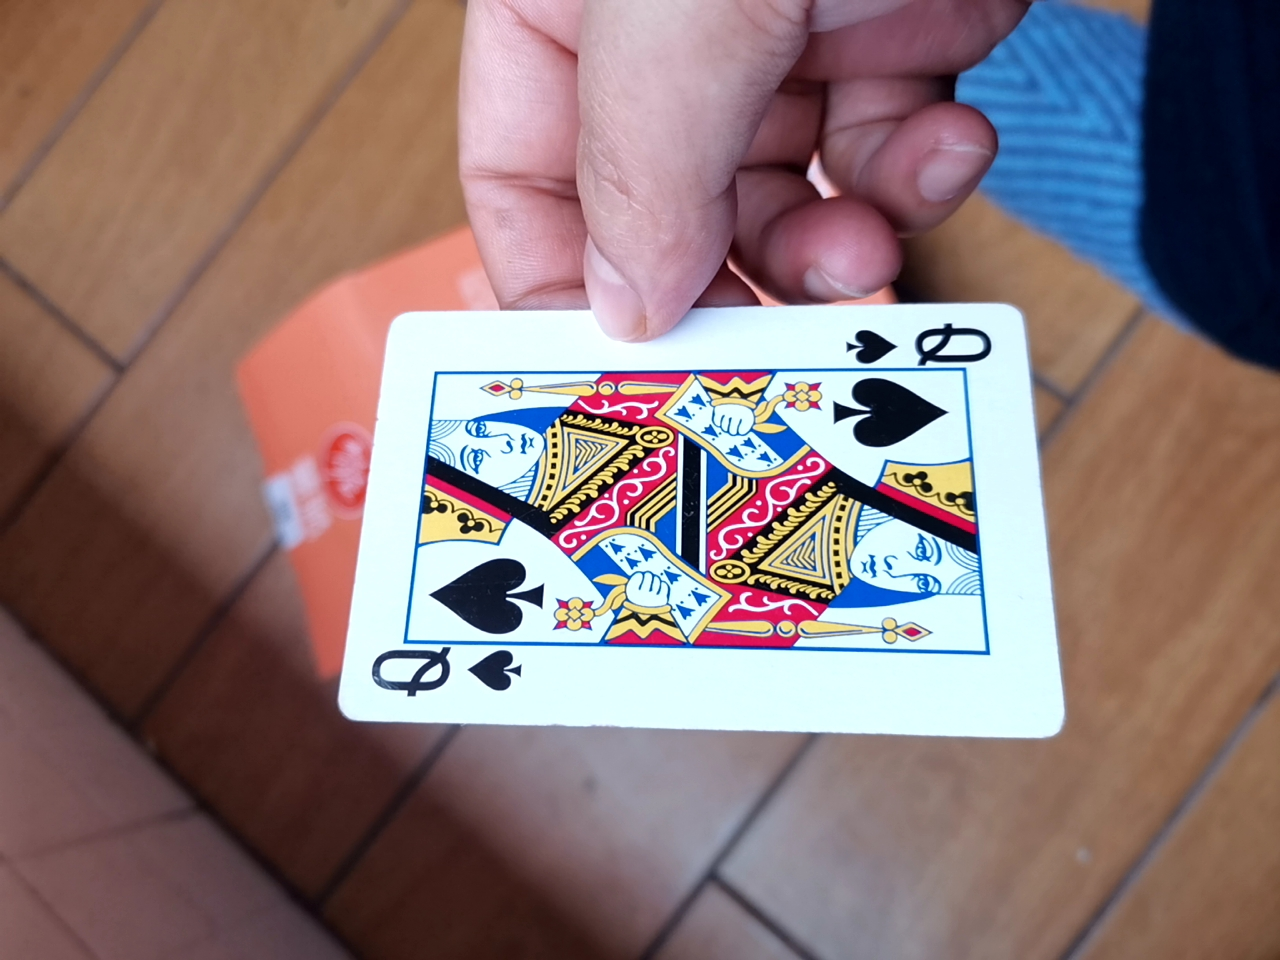ht q: (317, 286, 1073, 747)
